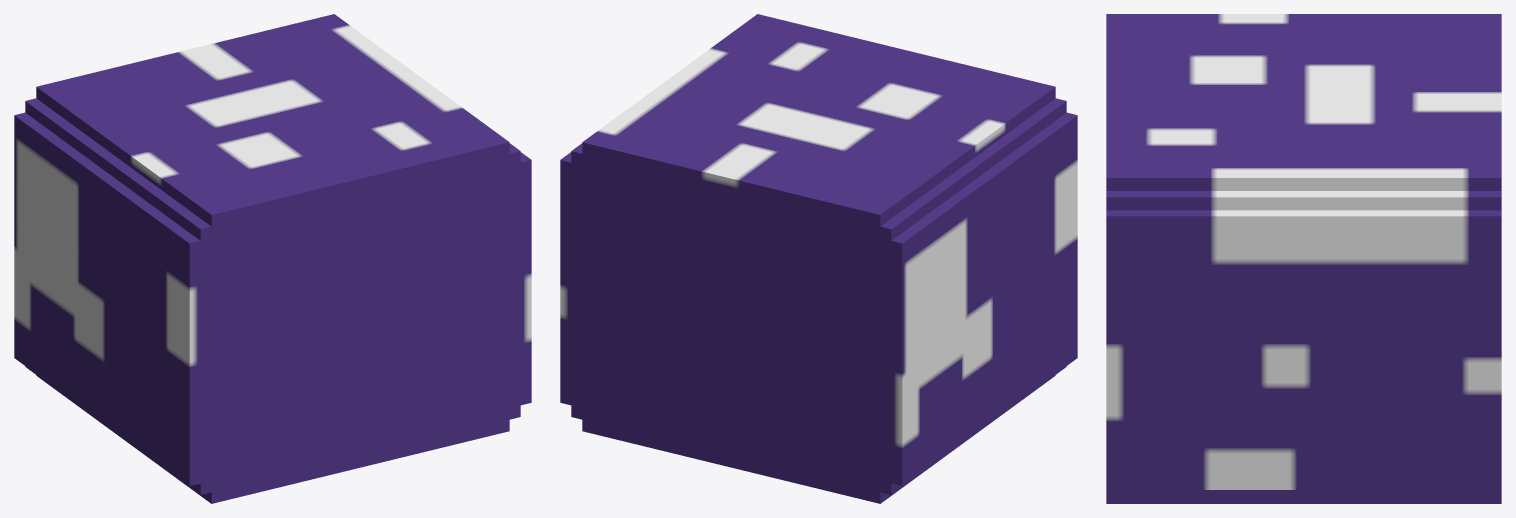
The model's file is CowWBodyPart.fbx.
The picture shows the model from 3 angles, left to right: view 1: azimuth 30°, elevation 25°; view 2: azimuth 150°, elevation 25°; view 3: azimuth 270°, elevation 25°; orthographic projection. The views are drawn at different scales.
Visible parts, largest first — view 1: CowWBodyPart; view 2: CowWBodyPart; view 3: CowWBodyPart.
Part boxes in pixels (<box>): CowWBodyPart: <box>14,14,531,503</box>; CowWBodyPart: <box>560,14,1077,503</box>; CowWBodyPart: <box>1106,14,1501,503</box>.
Size of the model in its own units: 62 by 50 by 55.
